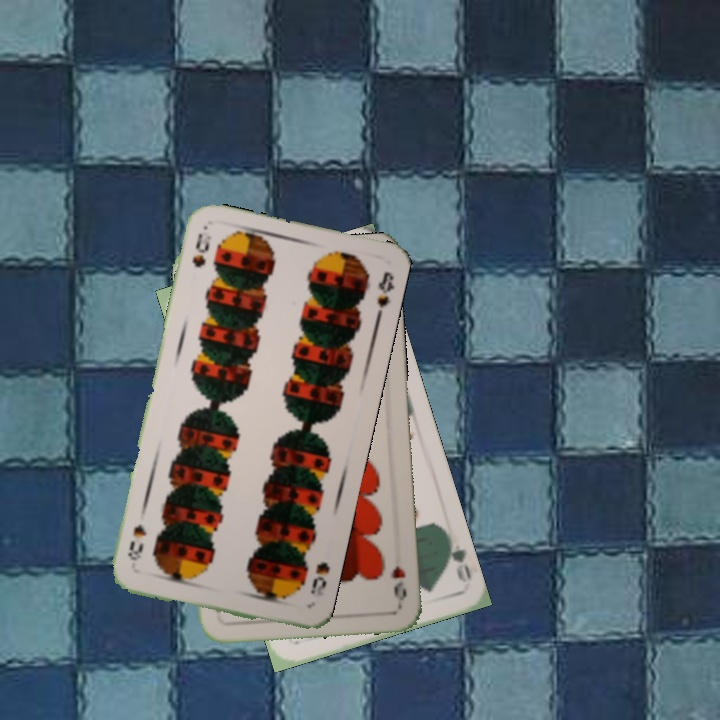GO: (442, 529, 474, 585)
H9: (387, 561, 409, 603)
S8: (188, 229, 214, 271), (307, 558, 333, 599)
